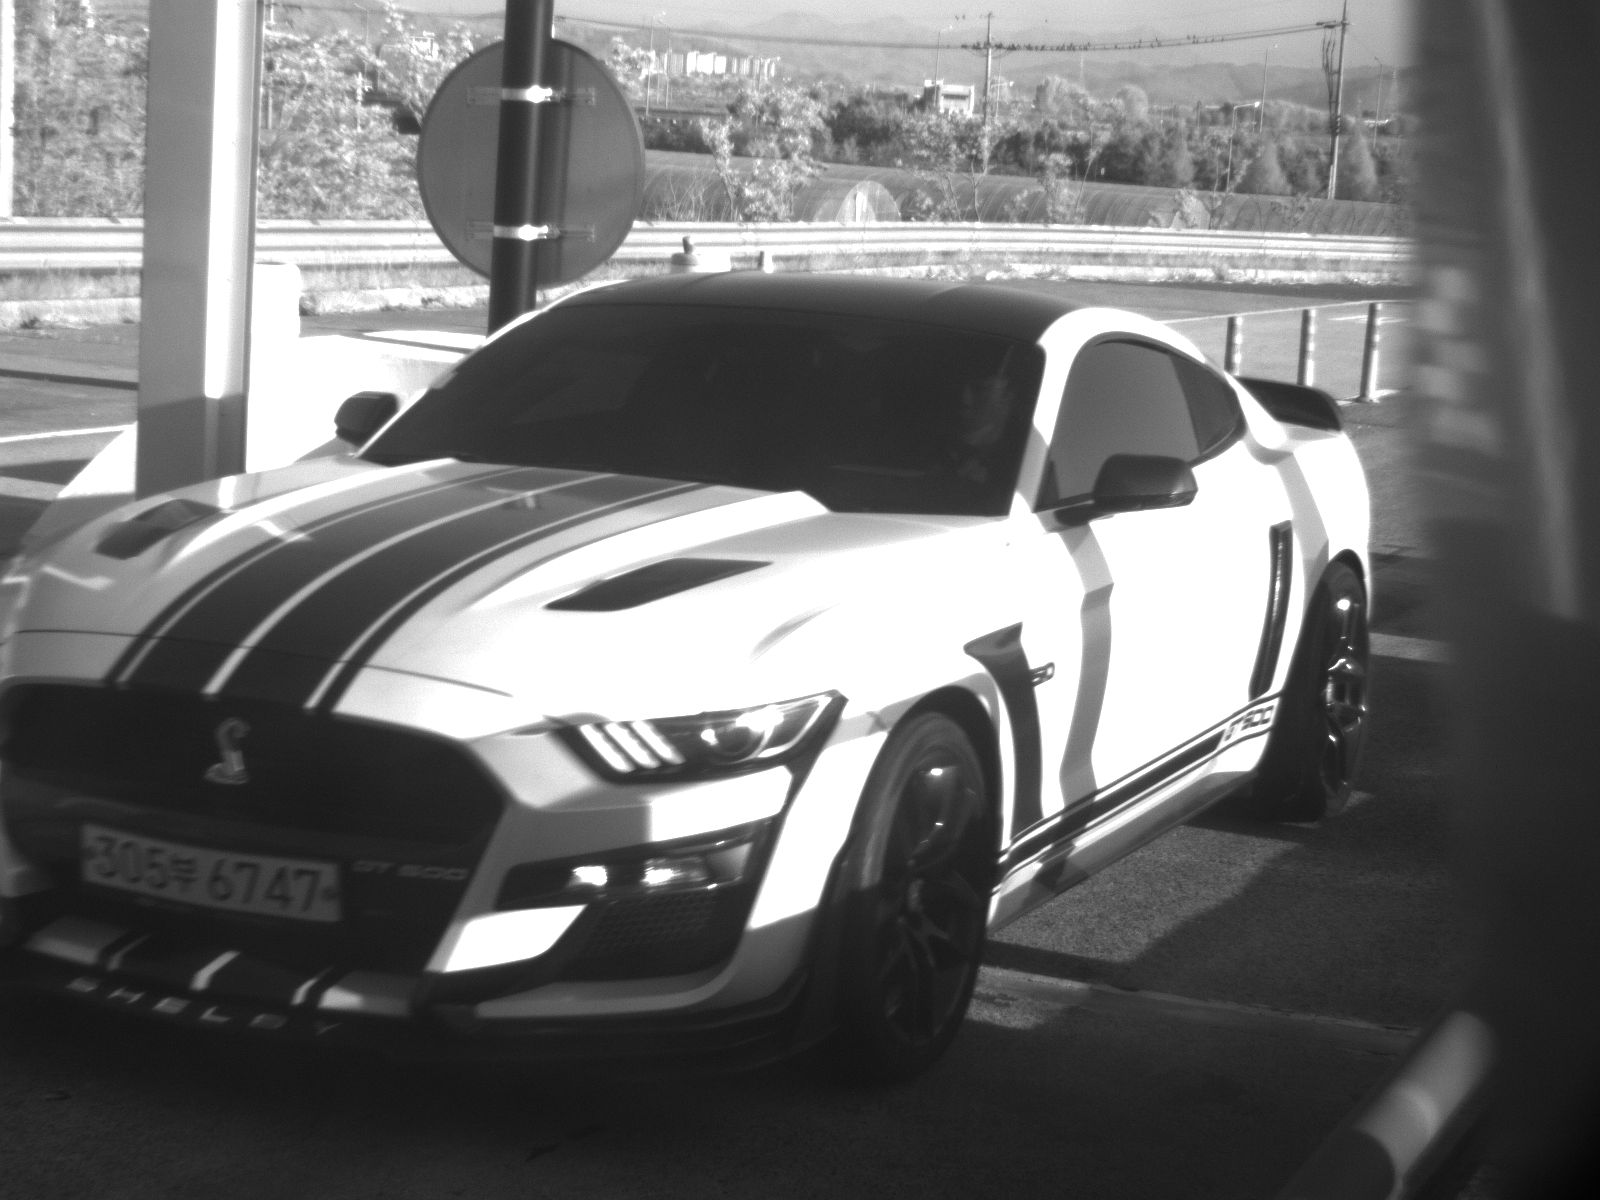car: (1, 268, 1379, 1095)
plate: (69, 817, 349, 930)
